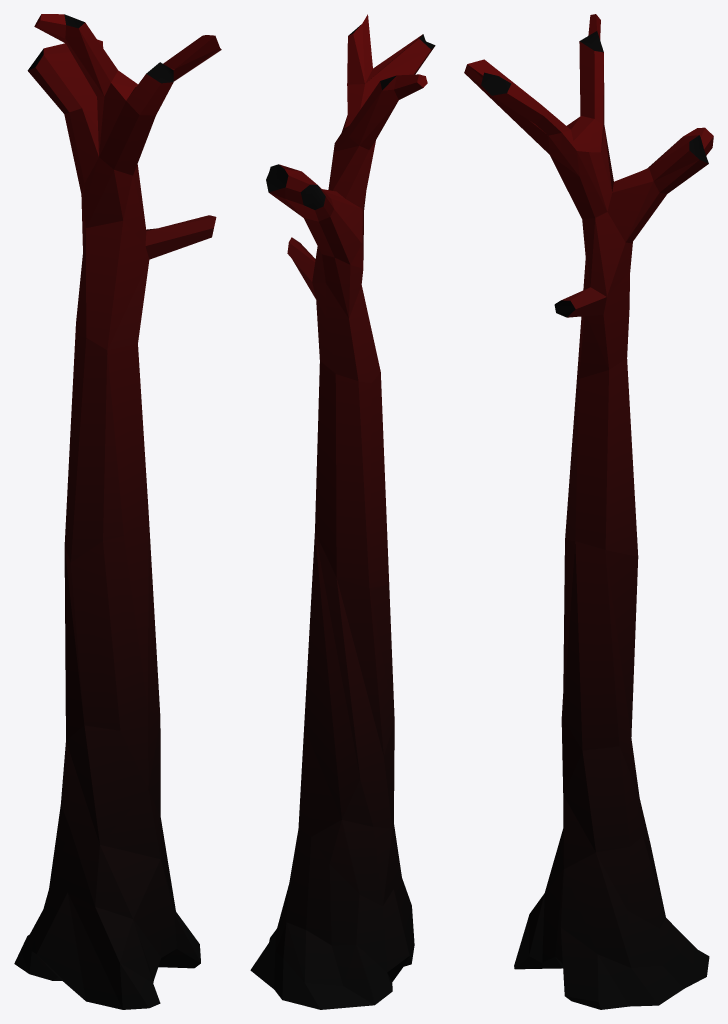
File: SM_Env_Tree_Medium_01_Collision.fbx
3 renders of one model, left to right at view 1: azimuth 30°, elevation 25°; view 2: azimuth 150°, elevation 25°; view 3: azimuth 270°, elevation 25°, orthographic. The views are drawn at different scales.
Parts seen in each view (by area): view 1: SM_Env_Tree_Medium_01_Collision; view 2: SM_Env_Tree_Medium_01_Collision; view 3: SM_Env_Tree_Medium_01_Collision.
Boxes of the visible parts, x1=… form: SM_Env_Tree_Medium_01_Collision: x1=14, y1=14, x2=221, y2=1009; SM_Env_Tree_Medium_01_Collision: x1=250, y1=14, x2=435, y2=1009; SM_Env_Tree_Medium_01_Collision: x1=464, y1=14, x2=713, y2=1009.
Bounding box in the file's own units: 213 × 1198 × 293.
